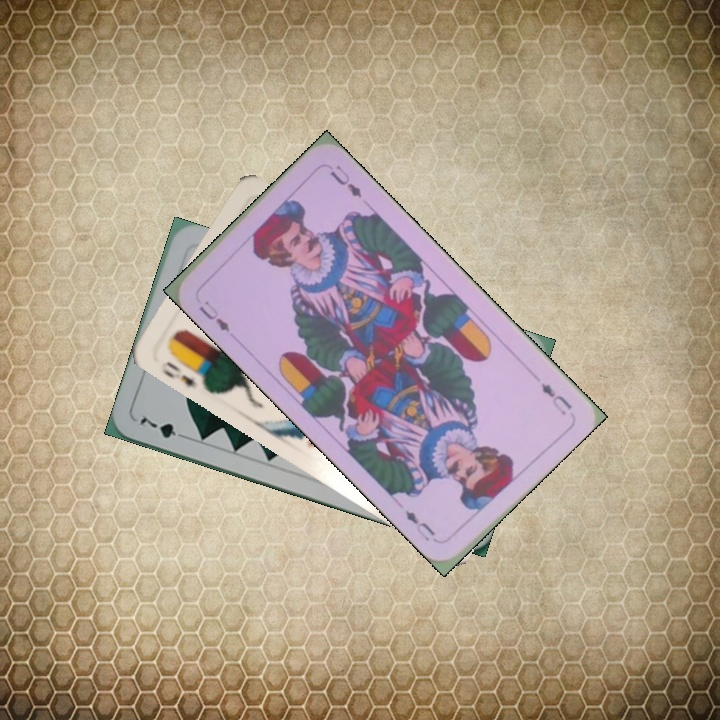EO: (160, 353, 208, 391)
EU: (537, 379, 575, 418), (195, 296, 233, 334)
G7: (136, 413, 191, 442)
